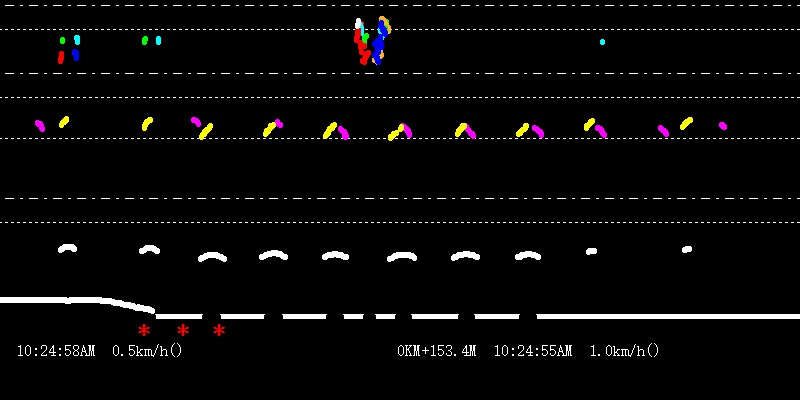J: (353, 4, 391, 67)
face_down: (72, 28, 86, 46), (153, 24, 164, 46)
star: (212, 323, 229, 338), (135, 321, 150, 337), (175, 323, 189, 338)
y_p: (186, 112, 548, 274)
